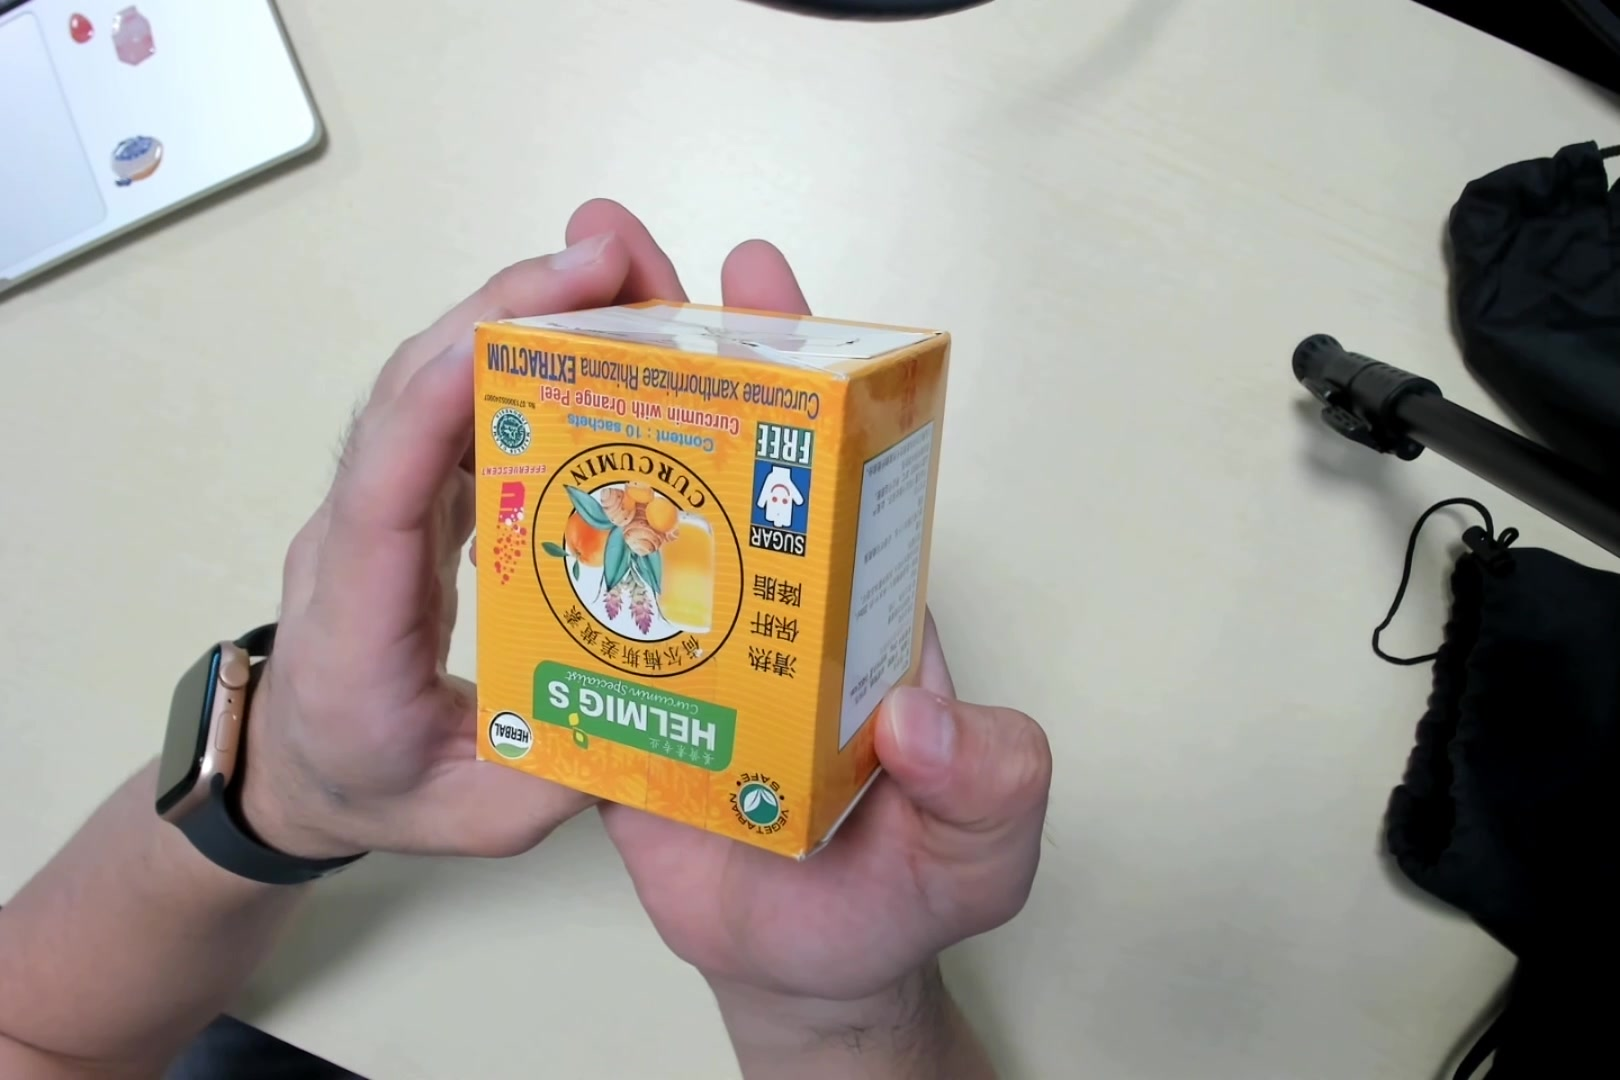OtherHotBeverages(Powder)_0-99g_Halal_NonHealthy: (471, 292, 931, 843)
